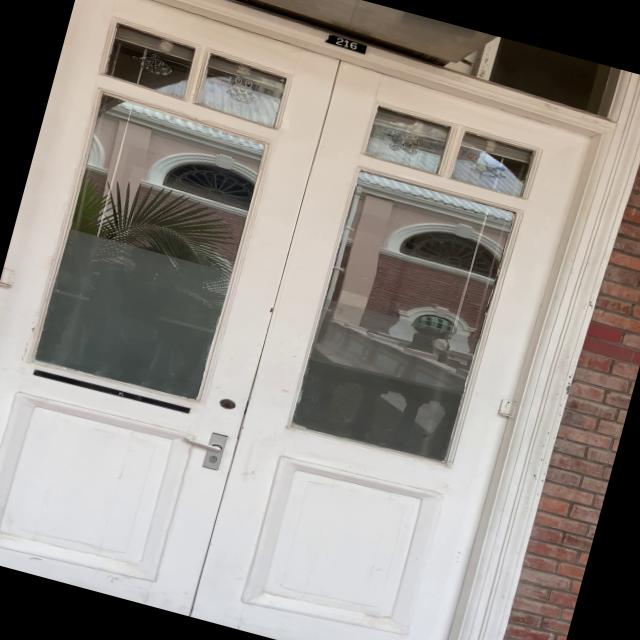room216: (316, 28, 372, 58)
